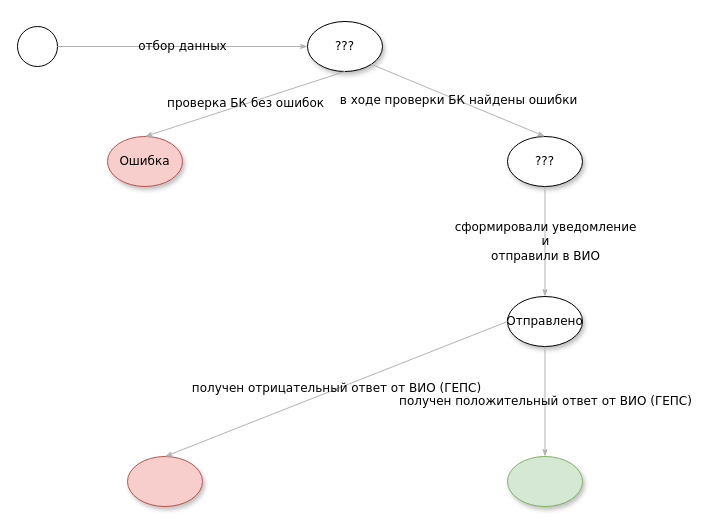
Some shapes in this 709 by 531 pixel diagram are drawn without their labels. Each missing label, with the centre of its shape:
"Доставлено" goes at (x=545, y=483).
"Ошибка доставки" goes at (x=165, y=483).
